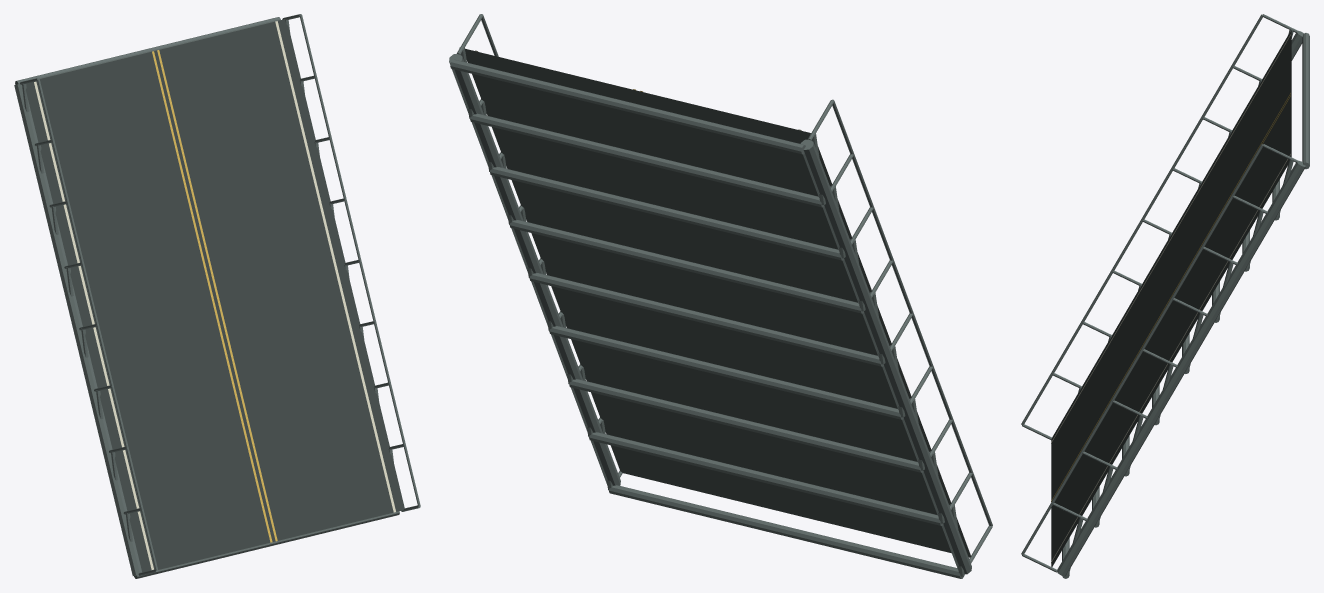
File: XBLD089.glb
3 views of the same model, side by side, from view 1: azimuth 30°, elevation 25°; view 2: azimuth 150°, elevation 25°; view 3: azimuth 270°, elevation 25° (orthographic). The views are drawn at different scales.
Parts seen in each view (by area): view 1: 도개교 열림; view 2: 도개교 열림; view 3: 도개교 열림.
Part boxes in pixels (bbox=[...]): 도개교 열림: bbox=[14, 14, 420, 578]; 도개교 열림: bbox=[449, 14, 992, 578]; 도개교 열림: bbox=[1021, 14, 1309, 578].
Size of the model in its own units: 9.94 by 15.01 by 9.03.
